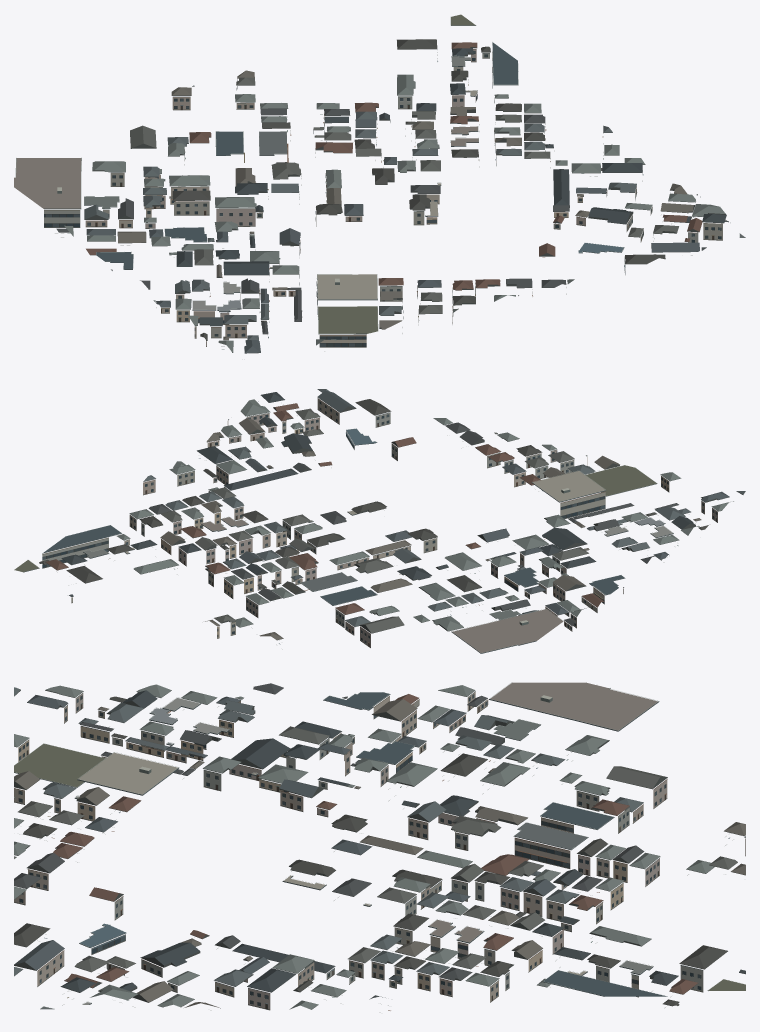
The picture shows the model from 3 angles, top to bottom: view 1: azimuth 30°, elevation 25°; view 2: azimuth 150°, elevation 25°; view 3: azimuth 270°, elevation 25°; orthographic projection. The views are drawn at different scales.
Visible parts, largest first — view 1: r1-c0; view 2: r1-c0; view 3: r1-c0.
Boxes of the visible parts, box(x1,y1,x2,y2) form: r1-c0: box(14, 14, 745, 353); r1-c0: box(14, 389, 745, 653); r1-c0: box(14, 682, 745, 1012).
Bounding box in the file's own units: 250 × 12 × 250.
